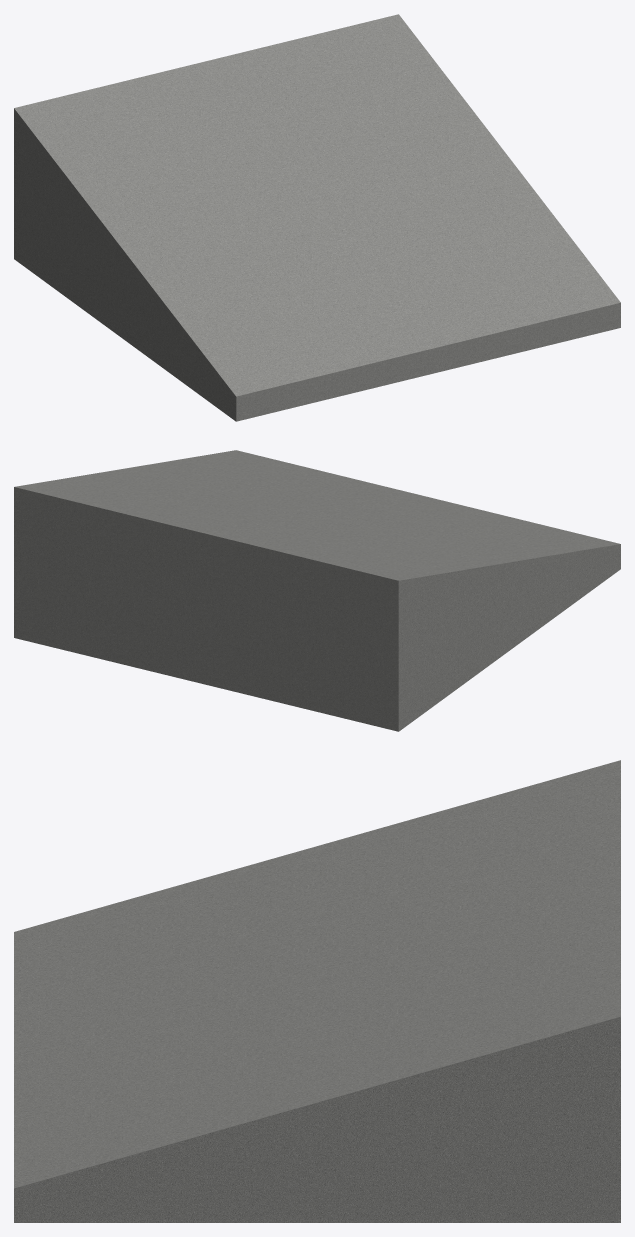
Rendered from estate_roof_slope_3b.glb.
3 renders of one model, top to bottom at view 1: azimuth 30°, elevation 25°; view 2: azimuth 150°, elevation 25°; view 3: azimuth 270°, elevation 25°, orthographic. The views are drawn at different scales.
Visible parts, largest first — view 1: wedge; view 2: wedge; view 3: wedge.
Boxes of the visible parts, x1,y1,x2,y2 form: wedge: (14, 14, 620, 421); wedge: (14, 450, 620, 731); wedge: (14, 760, 620, 1222).
Size of the model in its own units: 4 by 1.5 by 4.
1 material, 1 textured.
